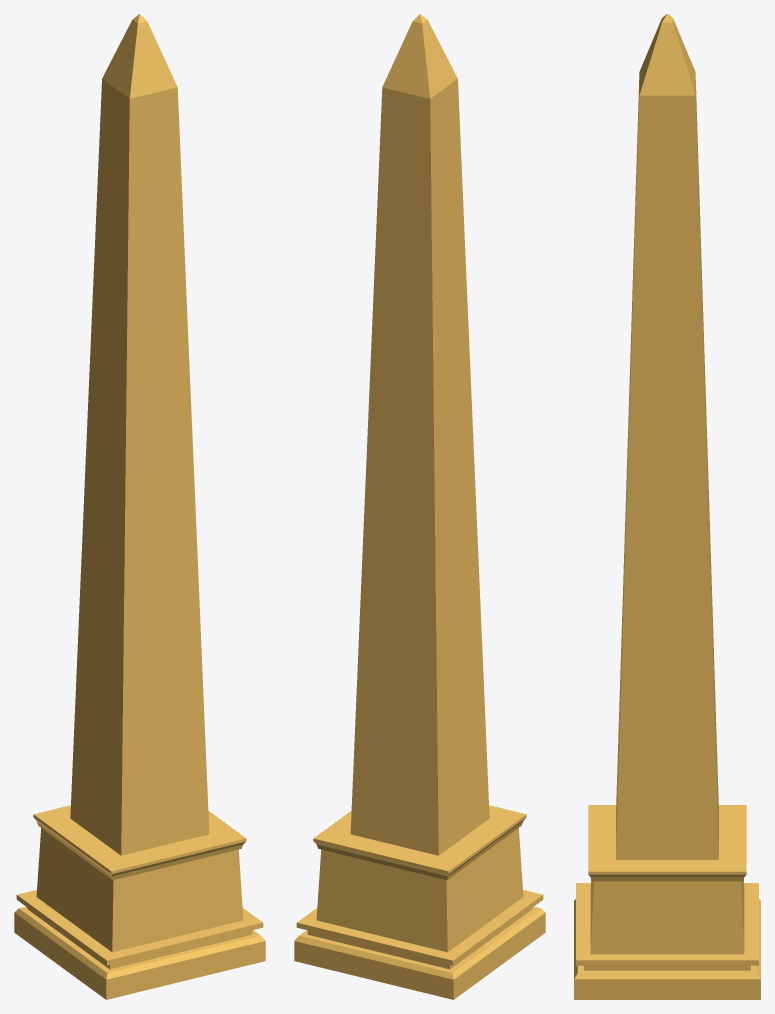
File: obelisk.glb
3 views of the same model, side by side, from view 1: azimuth 30°, elevation 25°; view 2: azimuth 150°, elevation 25°; view 3: azimuth 270°, elevation 25° (orthographic).
Visible parts, largest first — view 1: Box036; view 2: Box036; view 3: Box036.
Boxes of the visible parts, box(x1,y1,x2,y2) form: Box036: box(14, 14, 265, 999); Box036: box(294, 14, 545, 999); Box036: box(574, 14, 760, 999).
Size of the model in its own units: 3.16 by 17.65 by 3.16.
